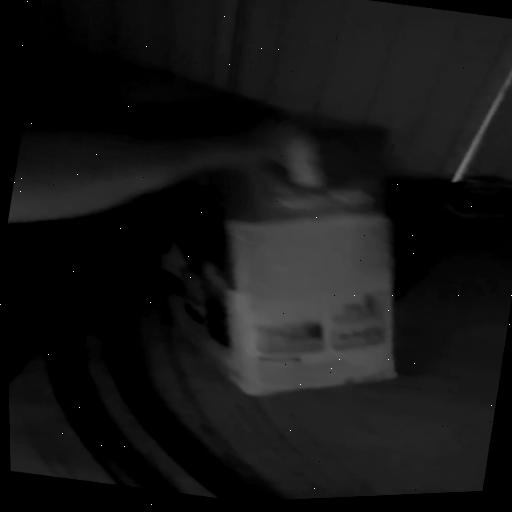ly_giay: (147, 125, 395, 395)
